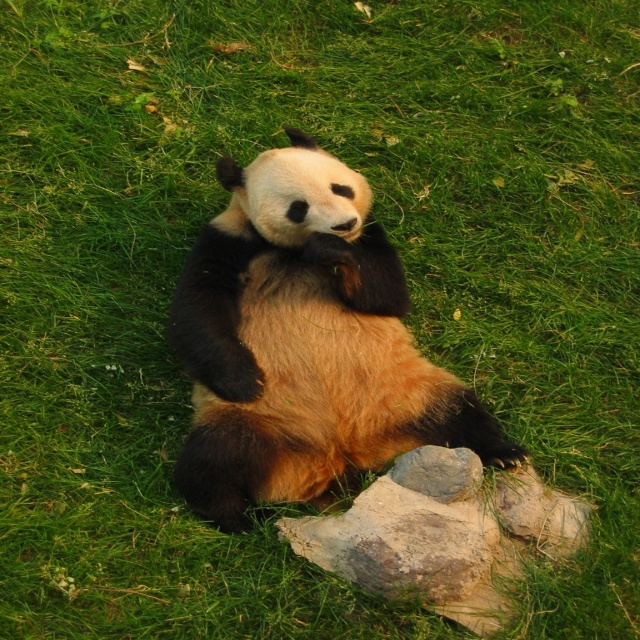Panda: (169, 125, 536, 535)
